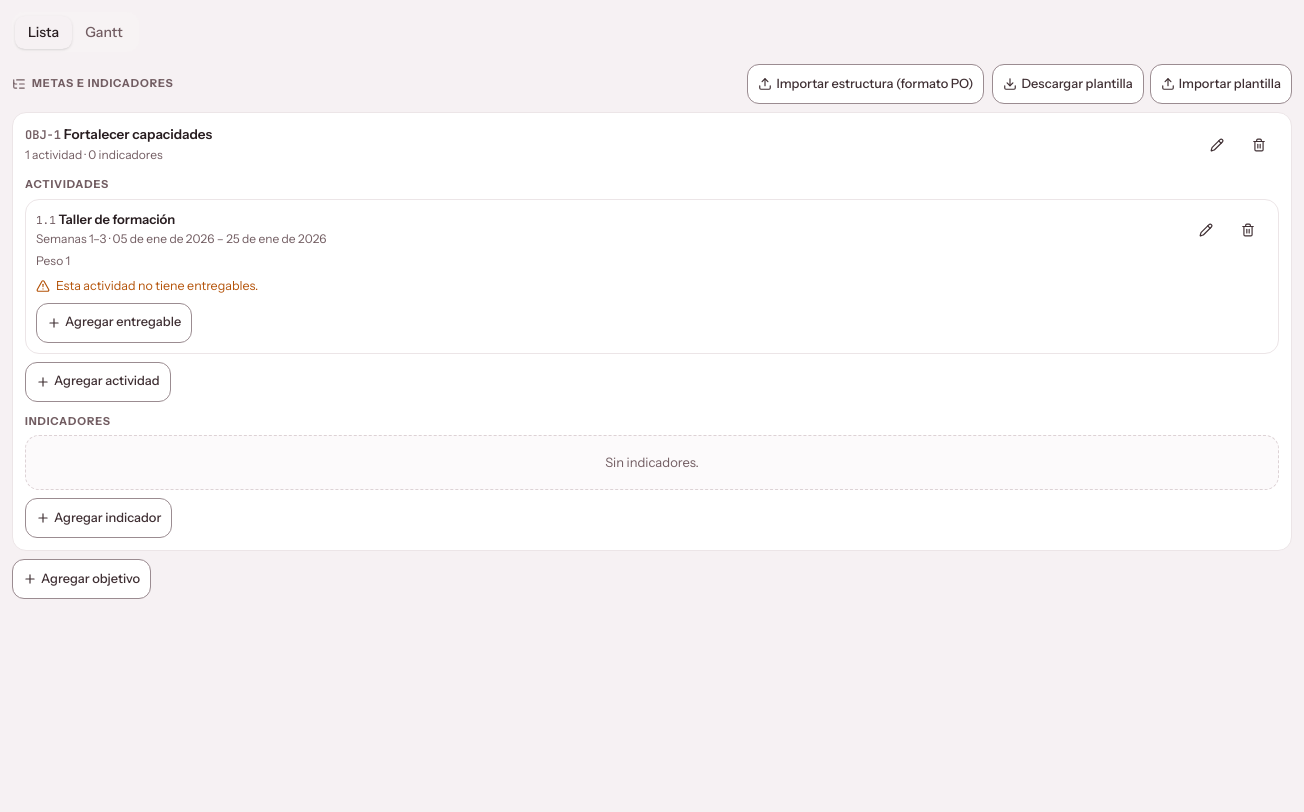
Test case: FichaActividades › view switcher › shows the editable structure as the Lista in BORRADOR and the Gantt on request
The image size is (1304, 812).
Click the tab "Gantt" at (104, 32), box x1=72 y1=16 x2=136 y2=48
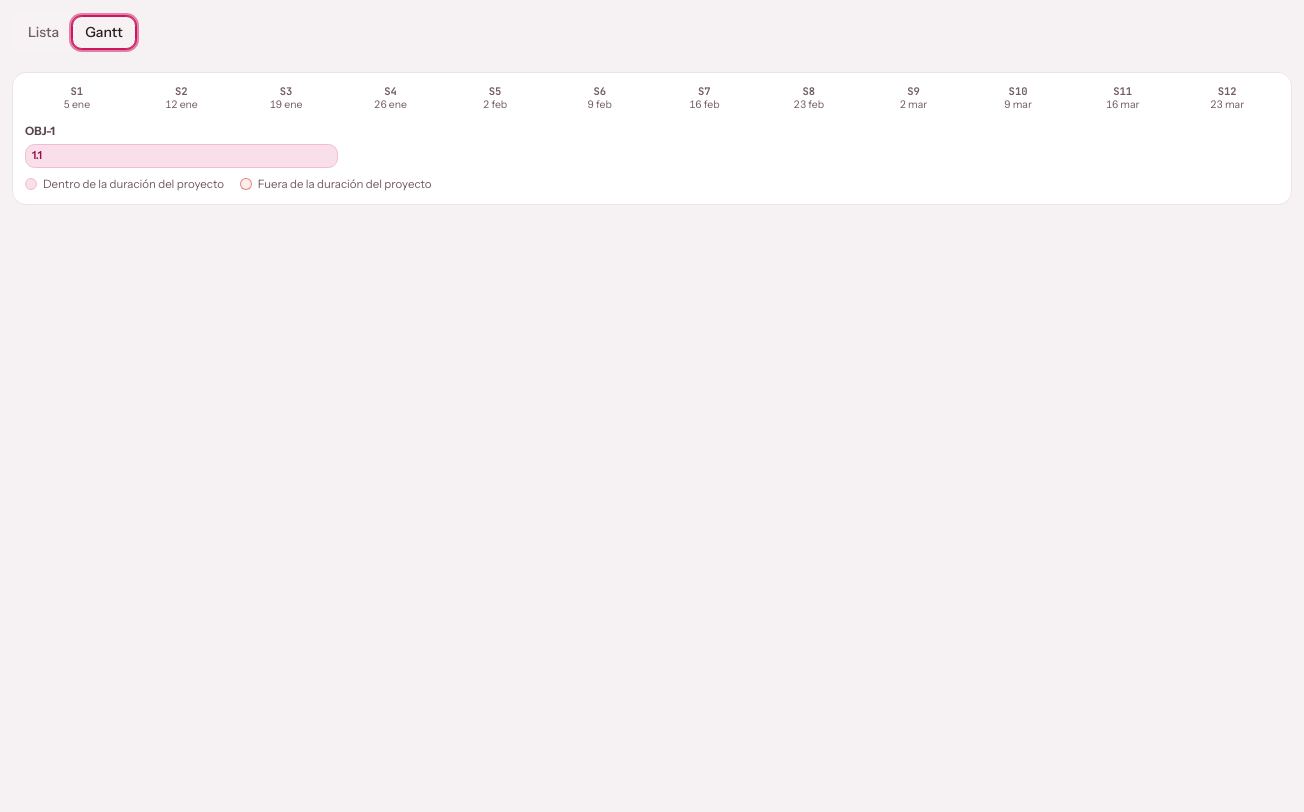
Expected: the element with test id "gantt" is shown, x1=12 y1=64 x2=1292 y2=205
Expected: the element with test id "estructura" is gone
